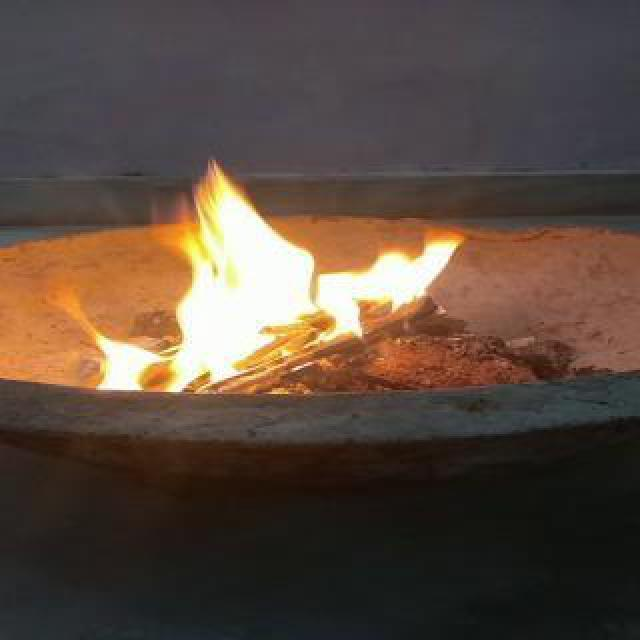Fire: (48, 152, 466, 396)
